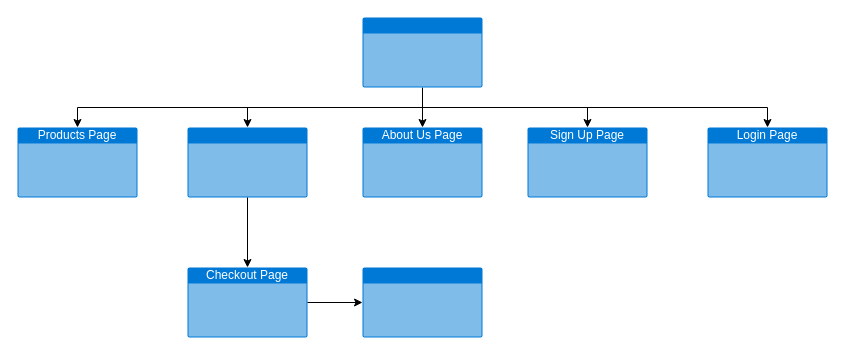
Some shapes in this 844 by 354 pixel diagram are drawn without their labels. The centre of each missing label's shape, as x and y in pixels:
"Cart Page" belongs at point 247,162.
"Home Page" belongs at point 422,52.
"Invoice Page" belongs at point 422,302.
